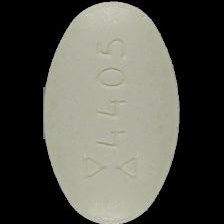0093-4405: (0, 0, 224, 224)
